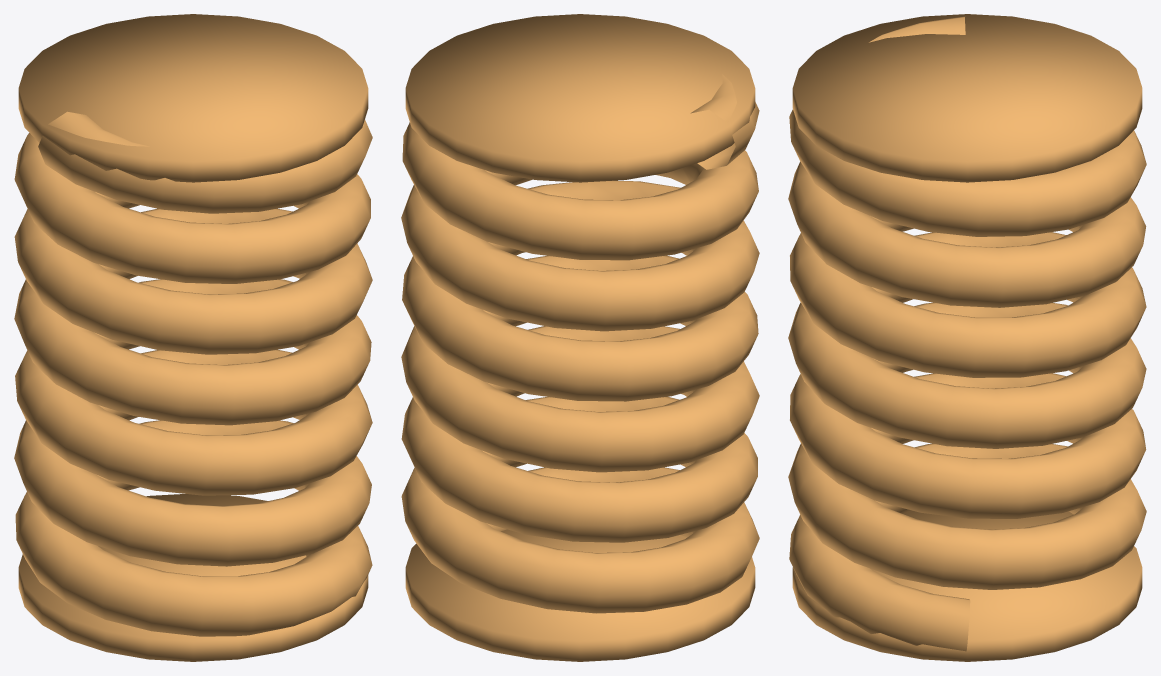
The model's file is die-spring.glb.
The picture shows the model from 3 angles, left to right: view 1: azimuth 30°, elevation 25°; view 2: azimuth 150°, elevation 25°; view 3: azimuth 270°, elevation 25°; orthographic projection.
Visible parts, largest first — view 1: model-die-spring; view 2: model-die-spring; view 3: model-die-spring.
Boxes of the visible parts, x1=… form: model-die-spring: x1=14, y1=14, x2=372, y2=661; model-die-spring: x1=401, y1=14, x2=759, y2=661; model-die-spring: x1=788, y1=14, x2=1146, y2=661.
Bounding box in the file's own units: 0.78 × 1.24 × 0.7796.
